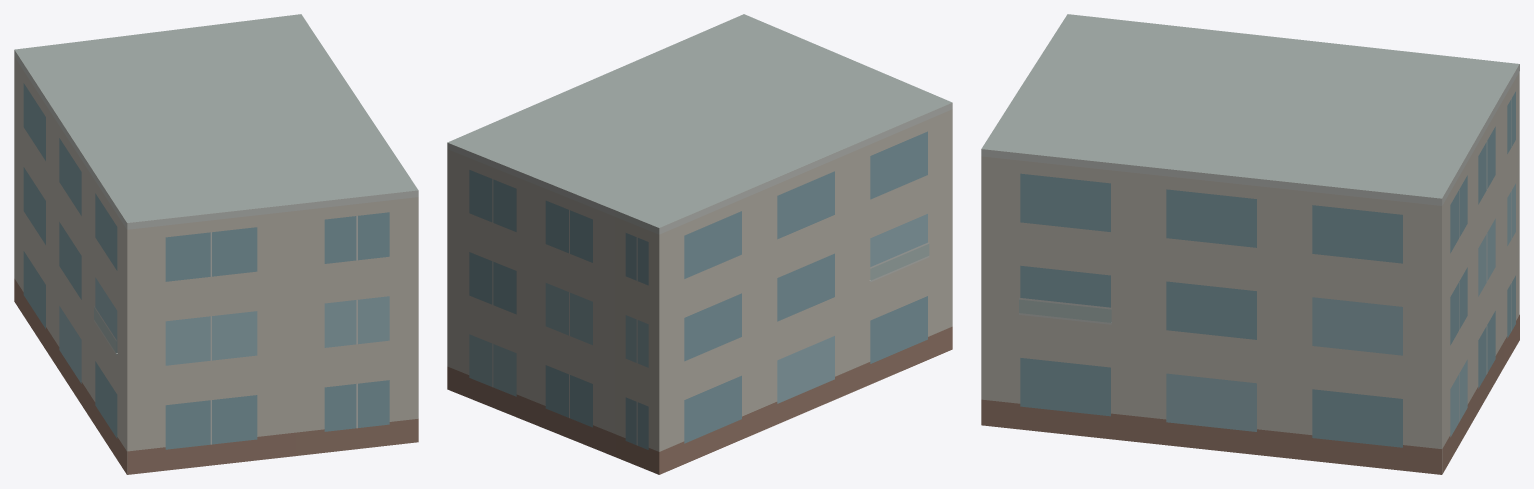
File: survey-upis-32830308.glb
3 views of the same model, side by side, from view 1: azimuth 30°, elevation 25°; view 2: azimuth 150°, elevation 25°; view 3: azimuth 270°, elevation 25° (orthographic). The views are drawn at different scales.
Visible parts, largest first — view 1: survey-upis-32830308.tmp; view 2: survey-upis-32830308.tmp; view 3: survey-upis-32830308.tmp.
Boxes of the visible parts, x1=… form: survey-upis-32830308.tmp: x1=14, y1=14, x2=418, y2=474; survey-upis-32830308.tmp: x1=447, y1=14, x2=952, y2=474; survey-upis-32830308.tmp: x1=981, y1=14, x2=1519, y2=474.
Bounding box in the file's own units: 13.13 × 9.15 × 16.18.
